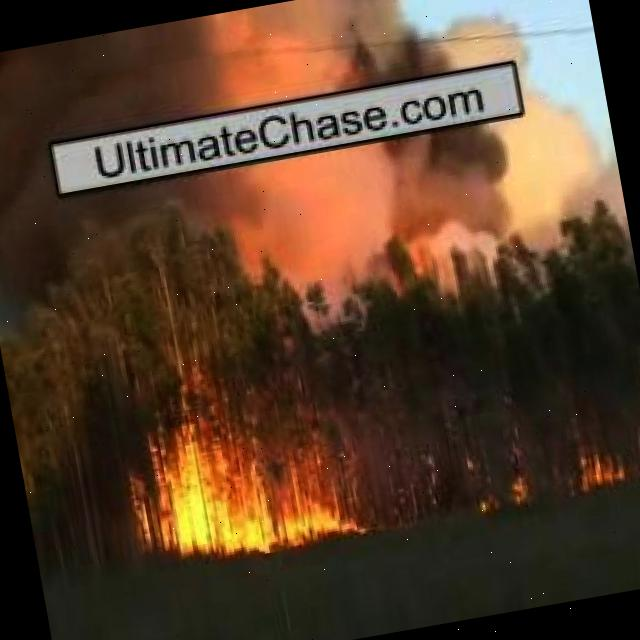fire: (150, 416, 366, 567), (472, 472, 542, 516), (570, 442, 626, 494)
